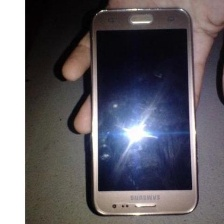phone: (86, 4, 204, 221)
